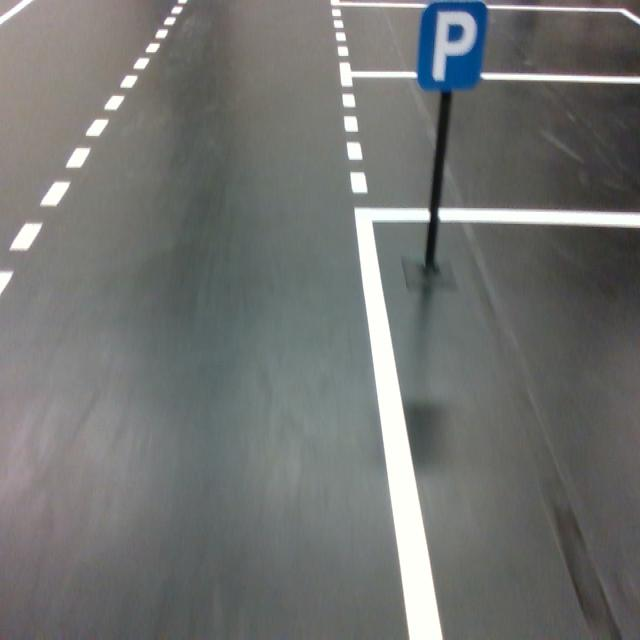parking-sign: (416, 0, 490, 92)
